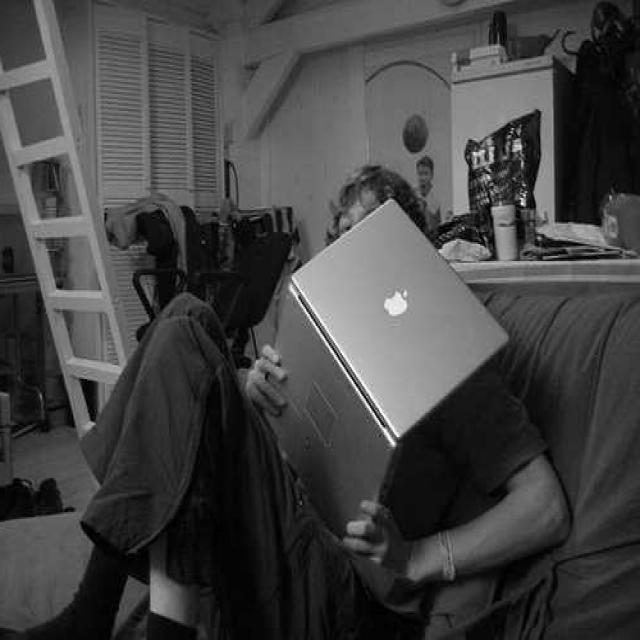laptop: (247, 201, 501, 513)
